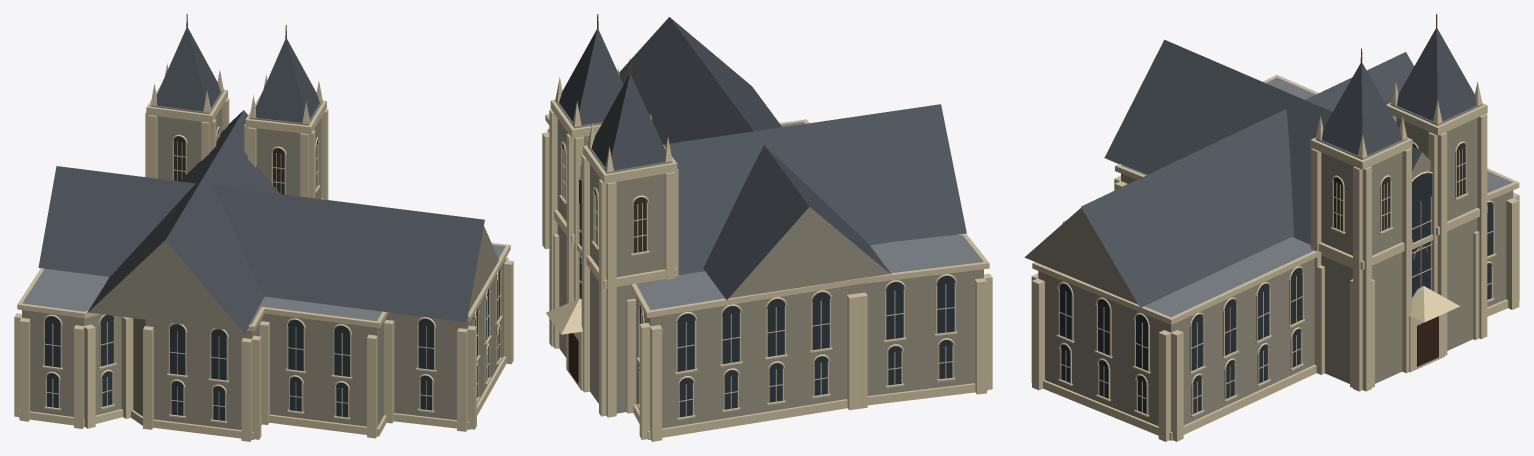
File: kensington_temple.glb
3 views of the same model, side by side, from view 1: azimuth 30°, elevation 25°; view 2: azimuth 150°, elevation 25°; view 3: azimuth 270°, elevation 25° (orthographic). The views are drawn at different scales.
Size of the model in its own units: 38.84 by 25.23 by 35.21.
